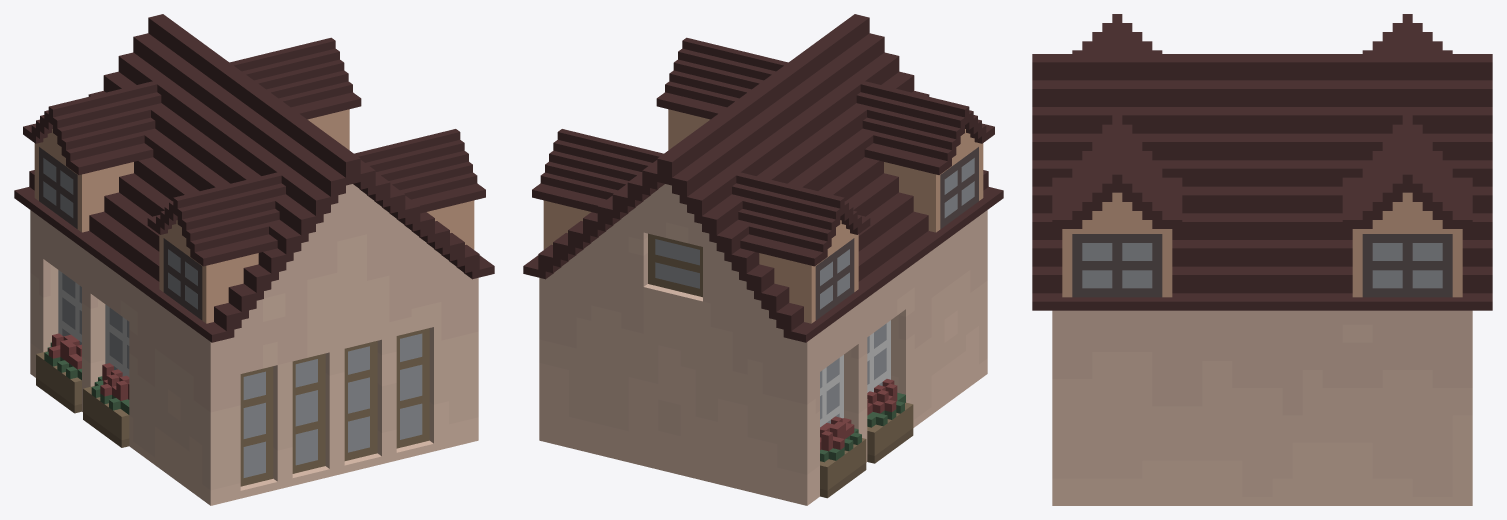
File: Corner Cafe-24.obj
The picture shows the model from 3 angles, left to right: view 1: azimuth 30°, elevation 25°; view 2: azimuth 150°, elevation 25°; view 3: azimuth 270°, elevation 25°; orthographic projection. The views are drawn at different scales.
Size of the model in its own units: 3.8 by 4.1 by 4.6.
1 material, 1 textured.
